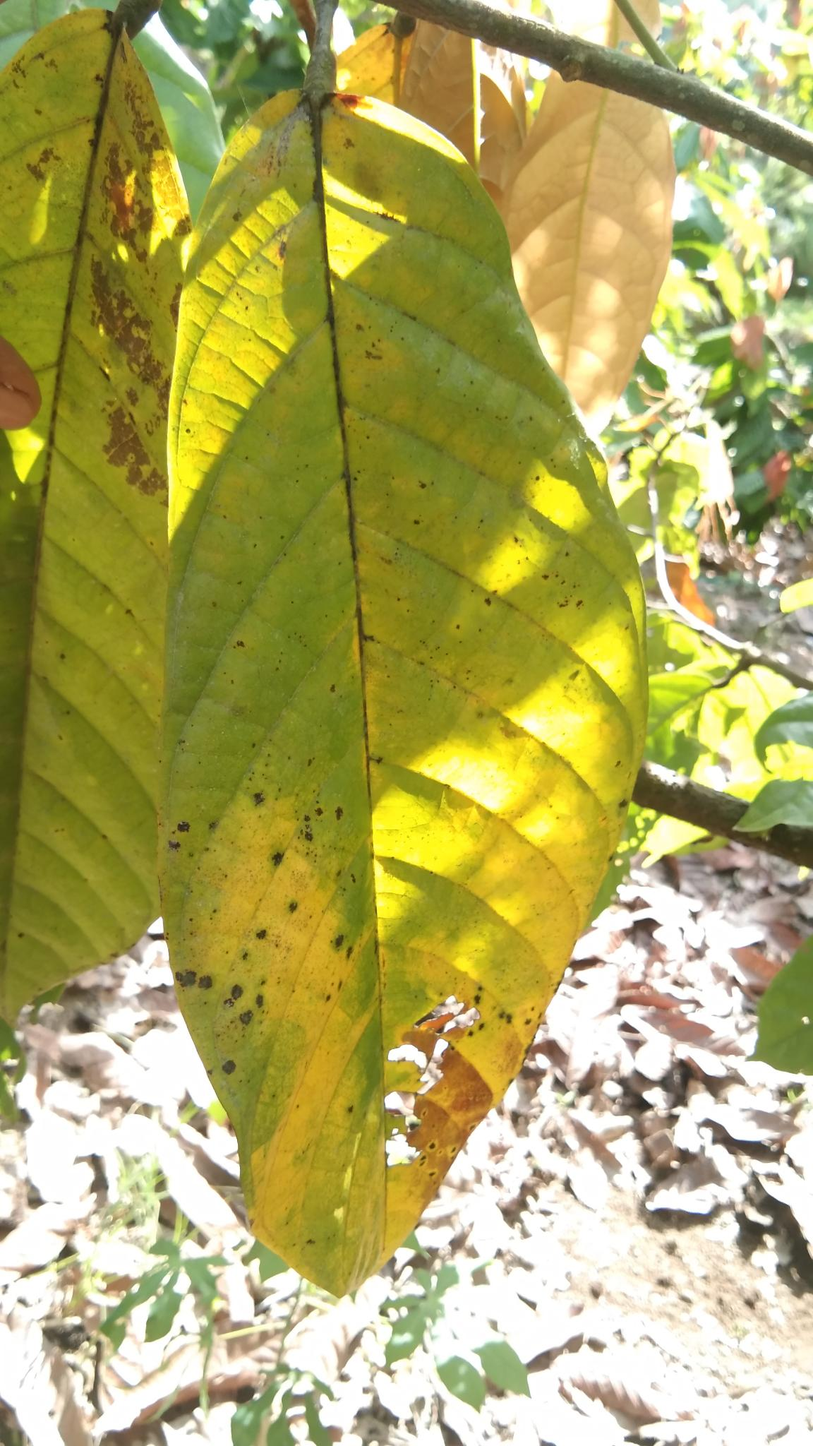Fosforo: (151, 71, 643, 1305)
